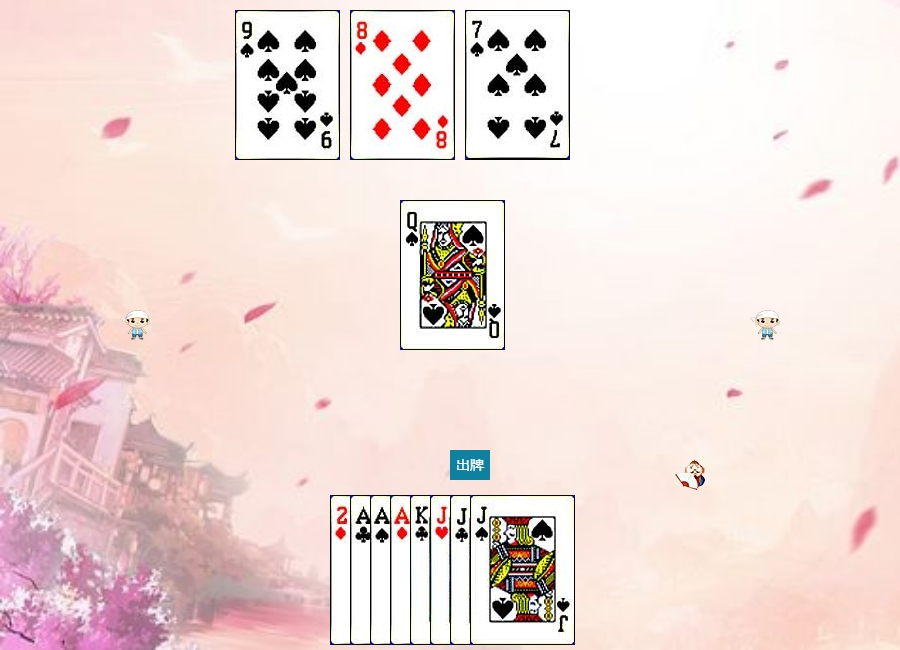11~2: (450, 495, 555, 645)
11~3: (430, 495, 535, 645)
11~4: (470, 495, 575, 645)
12~4: (400, 200, 505, 350)
13~2: (410, 495, 515, 645)
14~1: (390, 495, 495, 645)
14~2: (350, 495, 455, 645)
14~4: (370, 495, 475, 645)
15~1: (330, 495, 435, 645)
7~4: (465, 10, 570, 160)
8~1: (350, 10, 455, 160)
9~4: (235, 10, 340, 160)
